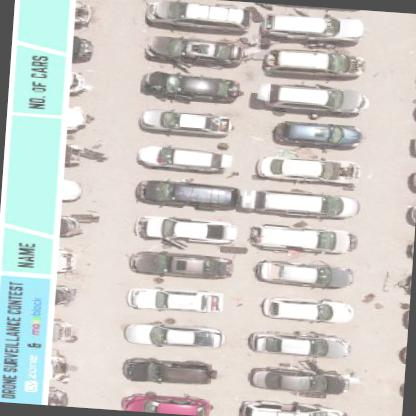car: (255, 81, 369, 115), (244, 188, 360, 220), (259, 10, 364, 44), (129, 249, 233, 282), (142, 70, 240, 105), (249, 223, 354, 255), (256, 154, 360, 186), (145, 0, 248, 32), (142, 36, 242, 68), (254, 260, 352, 292), (134, 217, 235, 248), (127, 284, 224, 316), (125, 318, 222, 350), (250, 364, 346, 396), (143, 178, 242, 209), (250, 329, 349, 360), (267, 48, 362, 80), (122, 356, 216, 388), (140, 142, 234, 173), (274, 119, 366, 150), (141, 107, 232, 138), (260, 295, 354, 324), (123, 388, 213, 416), (237, 401, 348, 415), (408, 130, 415, 161)
